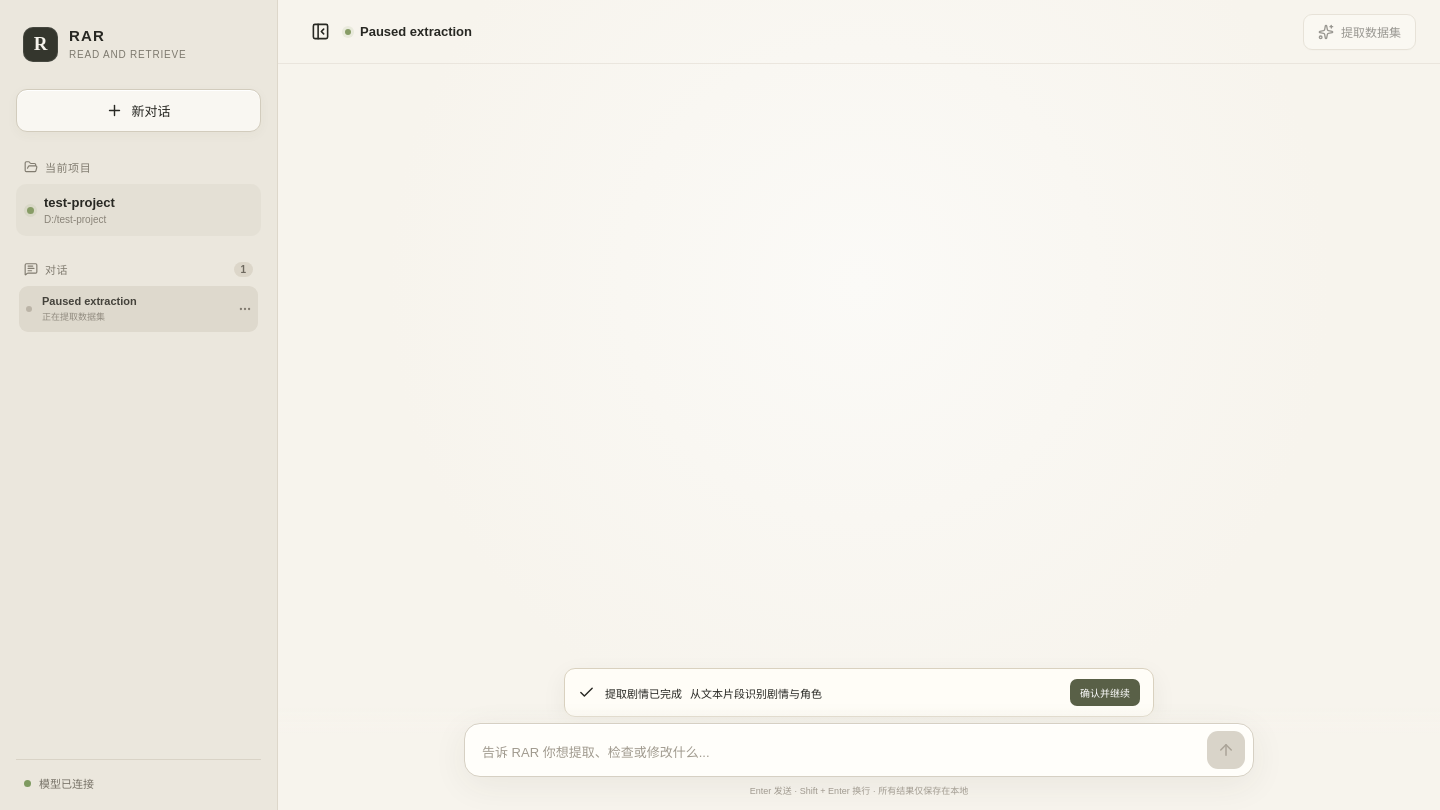
Test case: App chat navigation › enables chat at a staged pause and disables confirmation during its Agent run
Expected: the text "提取剧情已完成" is shown, [605,684,682,700]
Type "修正角色名称" into the text box with placeholder "告诉 RAR 你想提取、检查或修改什么...".
click(844, 751); type("修正角色名称")  # box [482,734,1207,769]
Then press Enter
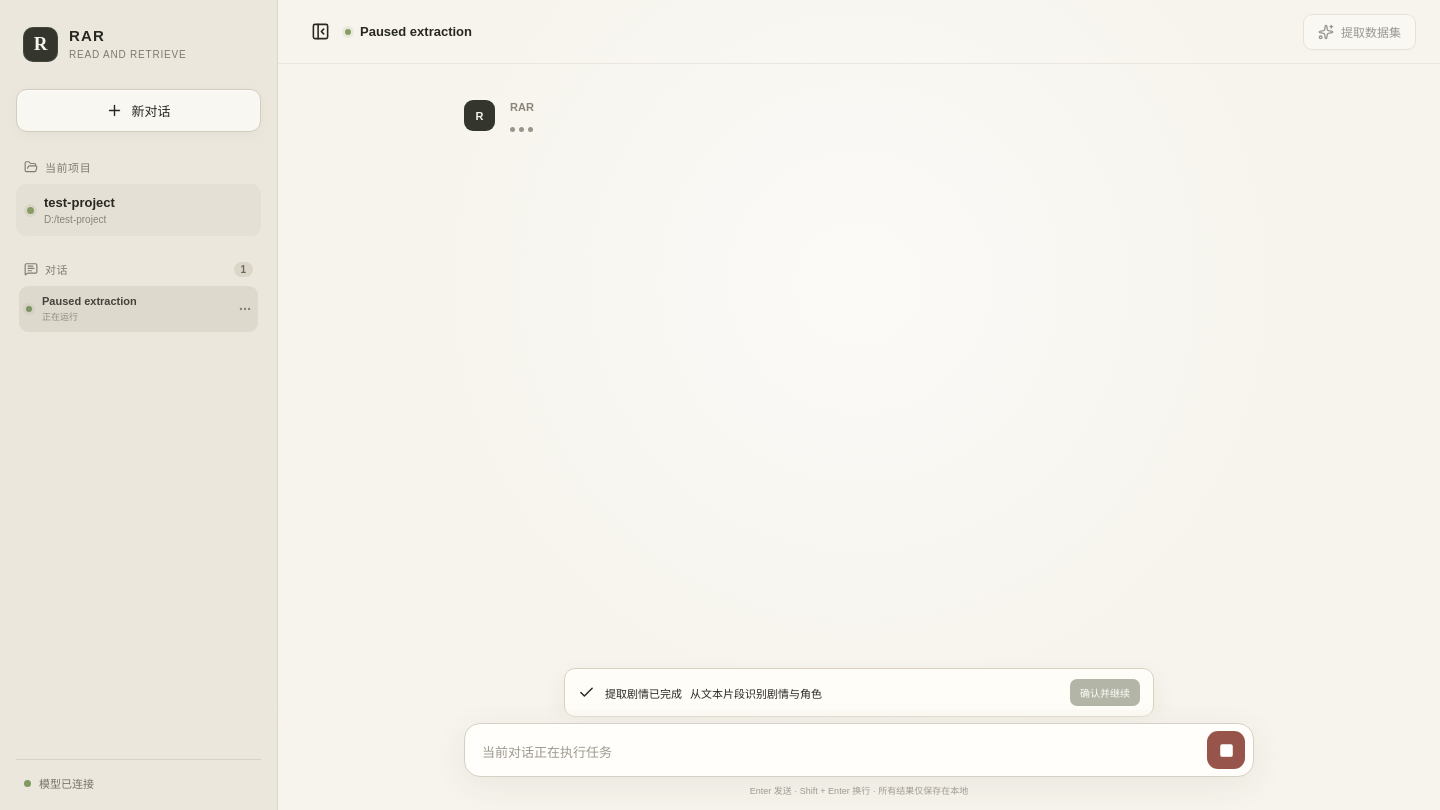
Result: the button "确认并继续" is disabled at [1070,679,1140,706]
Result: the text box with placeholder "当前对话正在执行任务" is shown at [482,734,1207,769]
